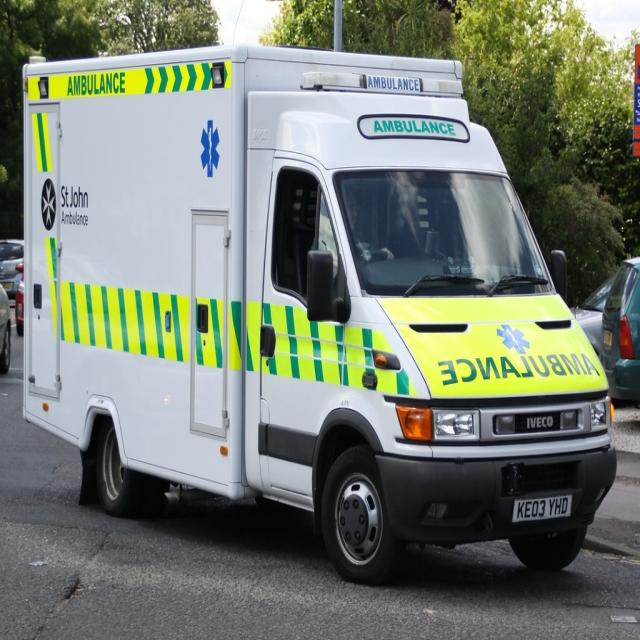ambulance: (21, 43, 616, 584)
